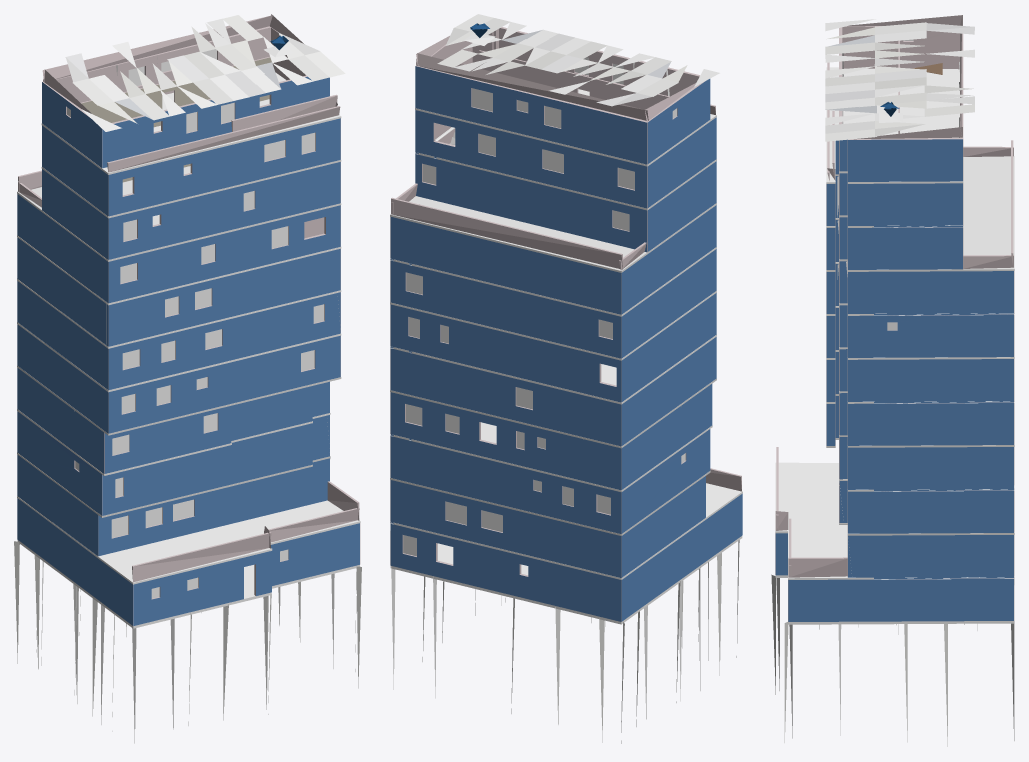
3 views of the same model, side by side, from view 1: azimuth 30°, elevation 25°; view 2: azimuth 150°, elevation 25°; view 3: azimuth 270°, elevation 25° (orthographic).
Visible parts, largest first — view 1: F_42; view 2: F_42; view 3: F_42.
Part boxes in pixels (x1,y1,x2,y2): F_42: (14, 14, 361, 743); F_42: (390, 14, 742, 743); F_42: (771, 15, 1014, 746).
Bounding box in the file's own units: 16.48 × 40.86 × 14.28.
